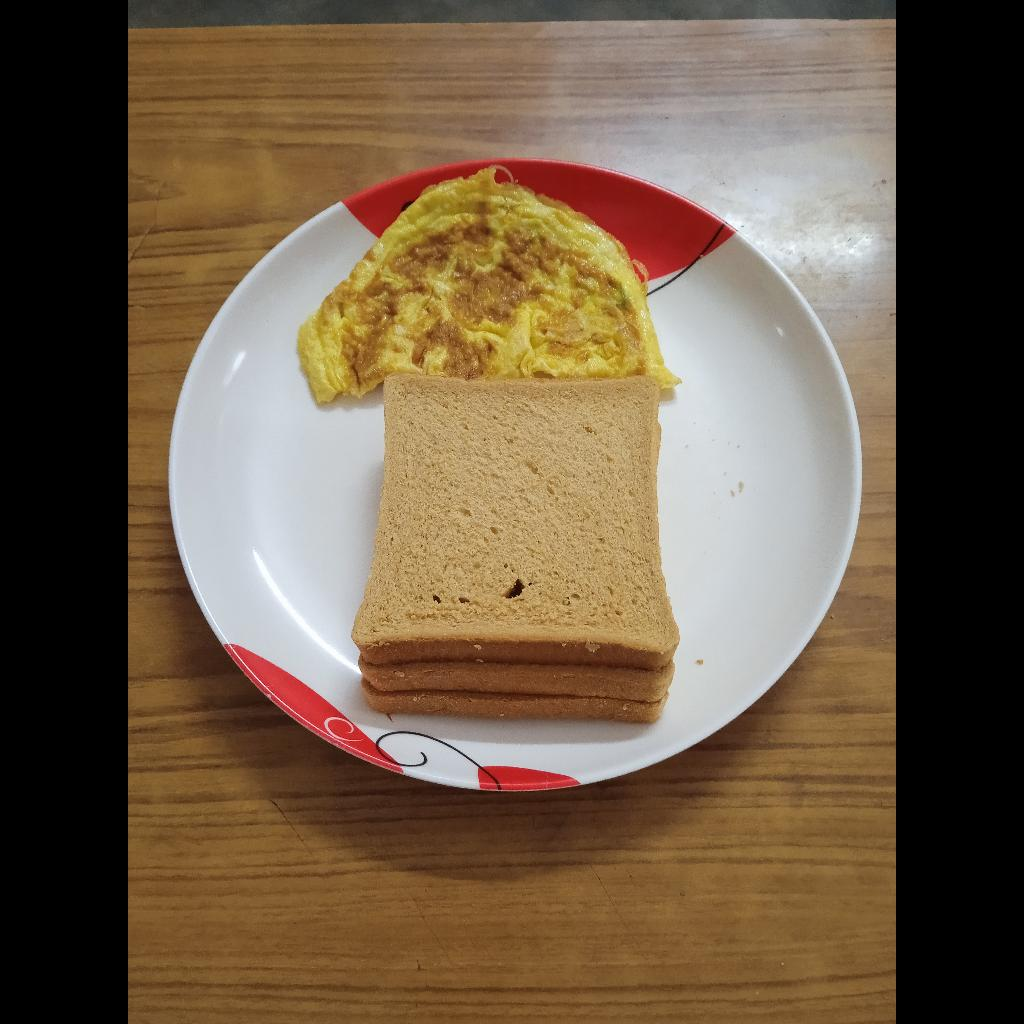bread: (349, 373, 680, 723)
egg-poached: (297, 166, 684, 405)
